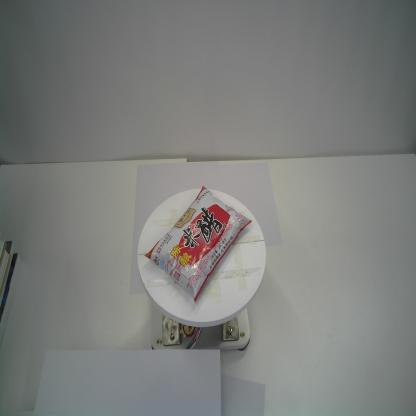Seasoner: (142, 183, 253, 304)
